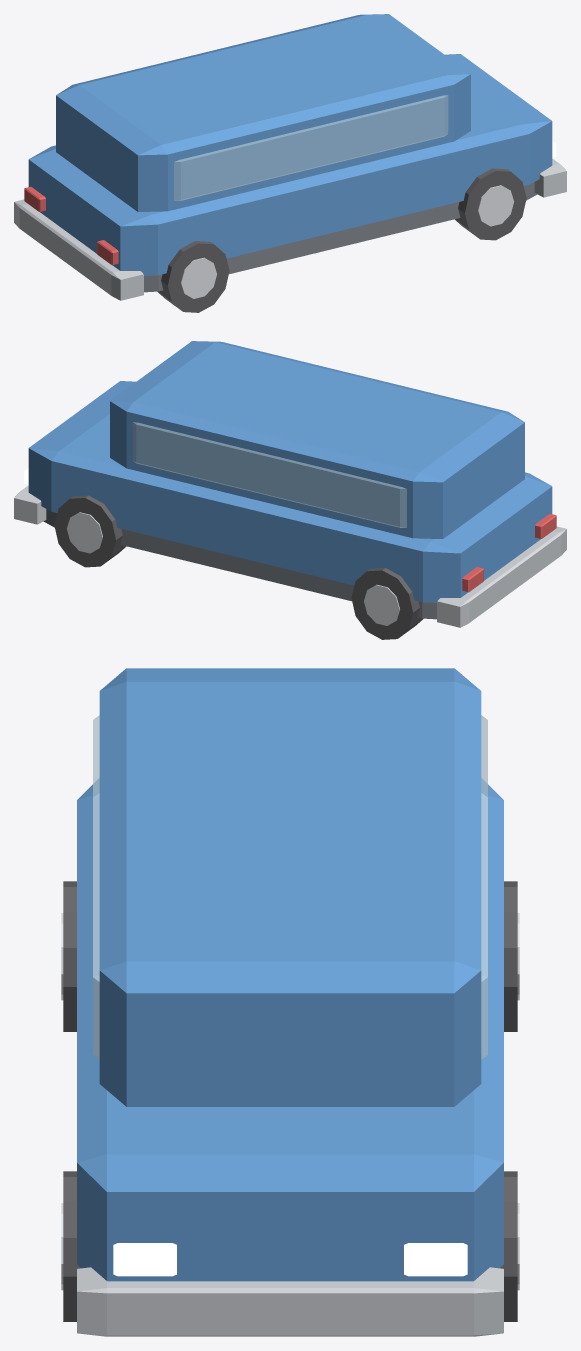
File: b03_family_minivan.glb
3 renders of one model, top to bottom at view 1: azimuth 30°, elevation 25°; view 2: azimuth 150°, elevation 25°; view 3: azimuth 270°, elevation 25°, orthographic. The views are drawn at different scales.
Visible parts, largest first — view 1: b03_family_minivan; view 2: b03_family_minivan; view 3: b03_family_minivan.
Boxes of the visible parts, left/top/right/bottom form: b03_family_minivan: left=14, top=14, right=566, bottom=312; b03_family_minivan: left=14, top=341, right=566, bottom=639; b03_family_minivan: left=61, top=668, right=519, bottom=1336.
Size of the model in its own units: 5.34 by 1.83 by 2.36.
